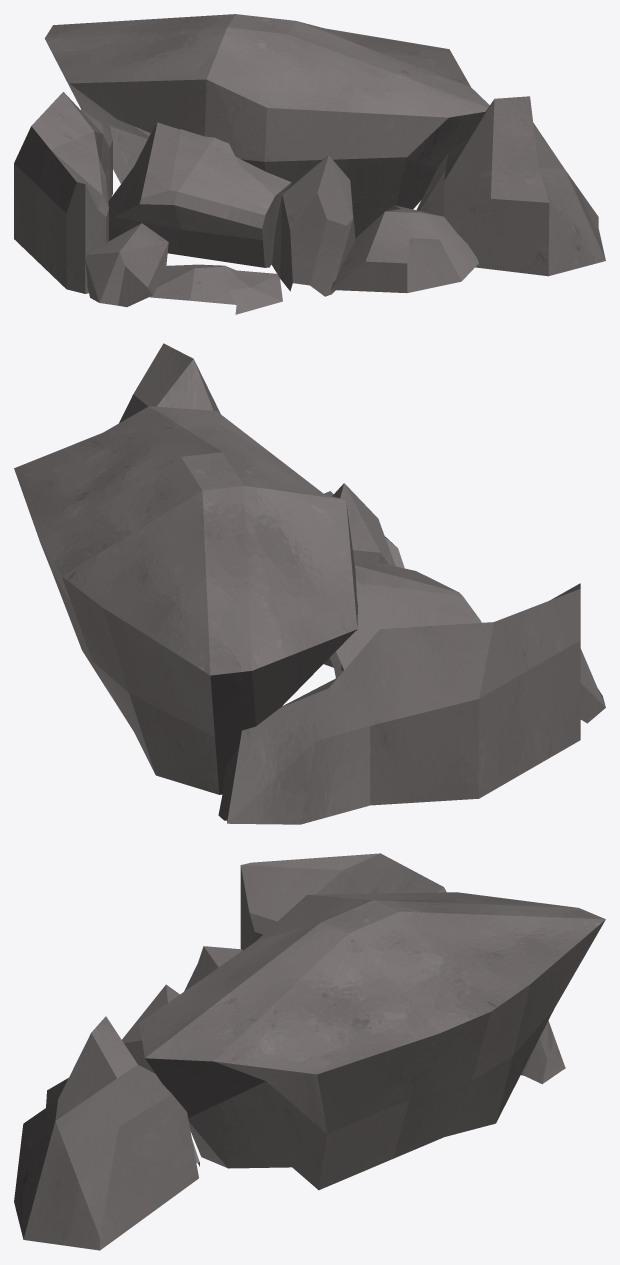
File: StoneSet_01.fbx
3 views of the same model, one above another, from view 1: azimuth 30°, elevation 25°; view 2: azimuth 150°, elevation 25°; view 3: azimuth 270°, elevation 25° (orthographic). The views are drawn at different scales.
Parts seen in each view (by area): view 1: Cube.047; view 2: Cube.047; view 3: Cube.047.
Part boxes in pixels (box(x1,y1,x2,y2)): Cube.047: box(14, 14, 605, 314); Cube.047: box(14, 343, 605, 824); Cube.047: box(14, 853, 605, 1250).
Bounding box in the file's own units: 396 × 158 × 376.
